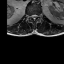CCS_normal: (33, 11, 35, 22)
LFS_normal: (37, 12, 39, 18)
LLS_normal: (35, 12, 37, 19)
RFS_normal: (28, 12, 31, 19)
RLS_normal: (31, 12, 33, 19)
